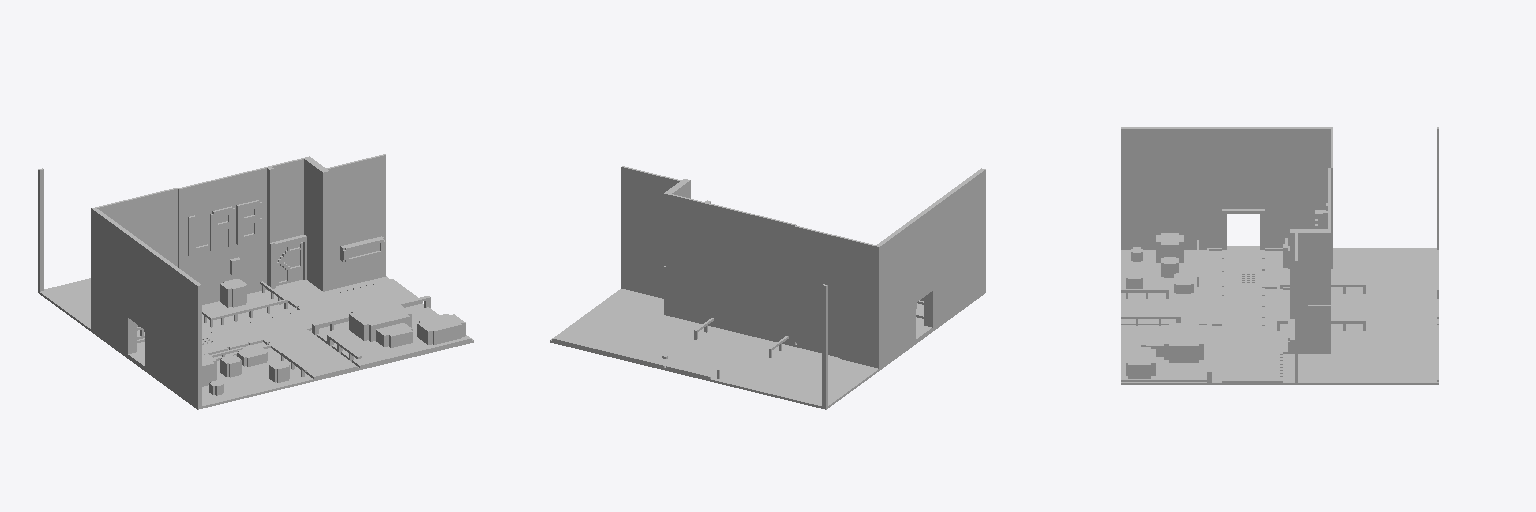
Rendered from Sci-Fi Level 2.obj.
3 views of the same model, side by side, from view 1: azimuth 30°, elevation 25°; view 2: azimuth 150°, elevation 25°; view 3: azimuth 270°, elevation 25° (orthographic).
Parts seen in each view (by area): view 1: object 1; view 2: object 1; view 3: object 1.
Part boxes in pixels (x1,y1,x2,y2): object 1: (38,154,473,409); object 1: (550,166,985,409); object 1: (1121,127,1438,384).
Bounding box in the file's own units: 12.6 × 5.4 × 12.6.